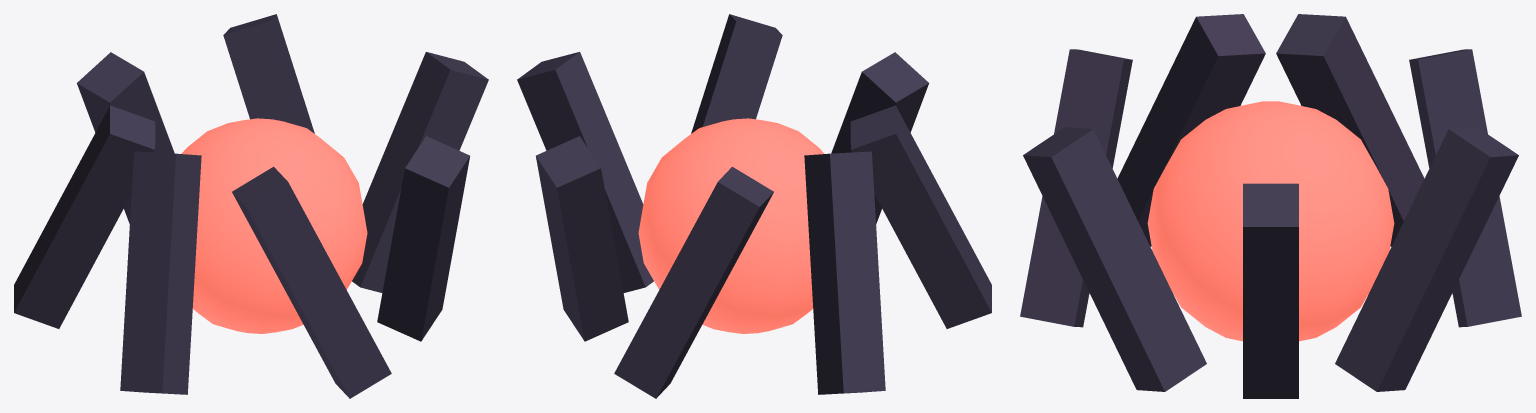
File: smother.glb
3 renders of one model, left to right at view 1: azimuth 30°, elevation 25°; view 2: azimuth 150°, elevation 25°; view 3: azimuth 270°, elevation 25°, orthographic. The views are drawn at different scales.
Visible parts, largest first — view 1: Smother; view 2: Smother; view 3: Smother.
Part boxes in pixels (bbox=[...]): Smother: bbox=[14, 14, 488, 398]; Smother: bbox=[517, 14, 991, 398]; Smother: bbox=[1020, 14, 1521, 398].
Size of the model in its own units: 1.48 by 0.7751 by 1.38.
